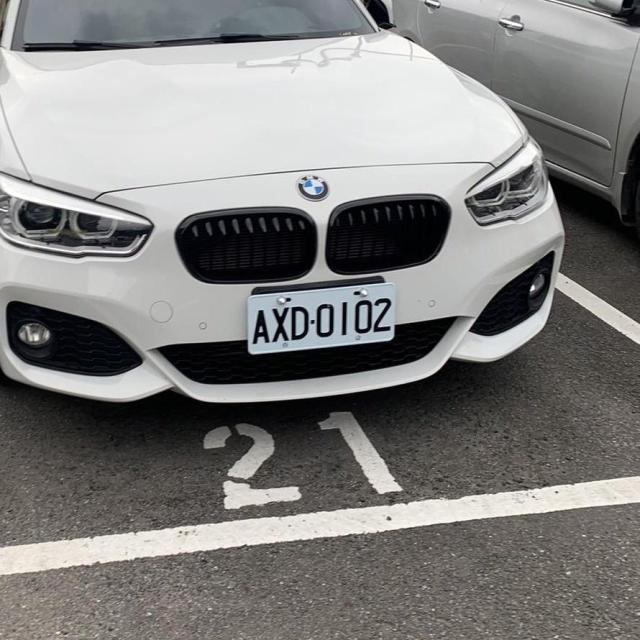W: (235, 277, 411, 357)
